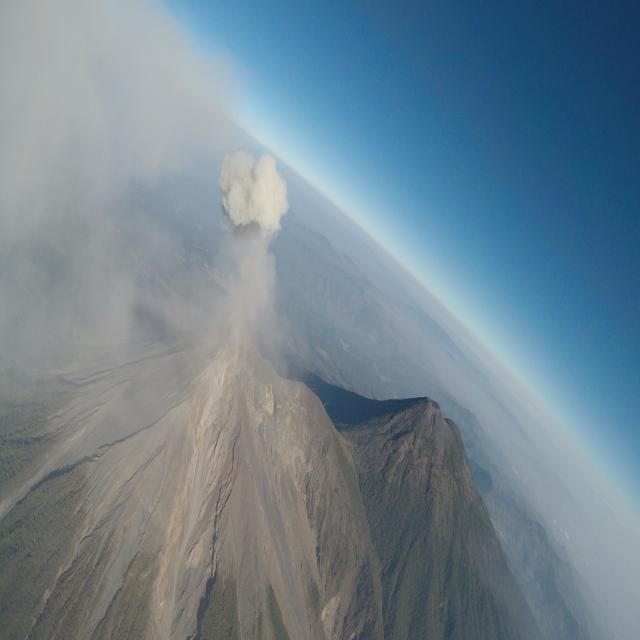Plume: (0, 0, 216, 378), (212, 148, 291, 252)
Summit: (204, 310, 262, 364)
